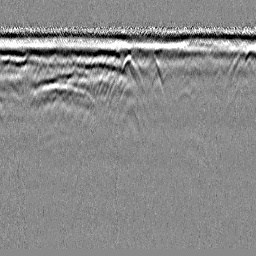cavity: (116, 53, 143, 86)
